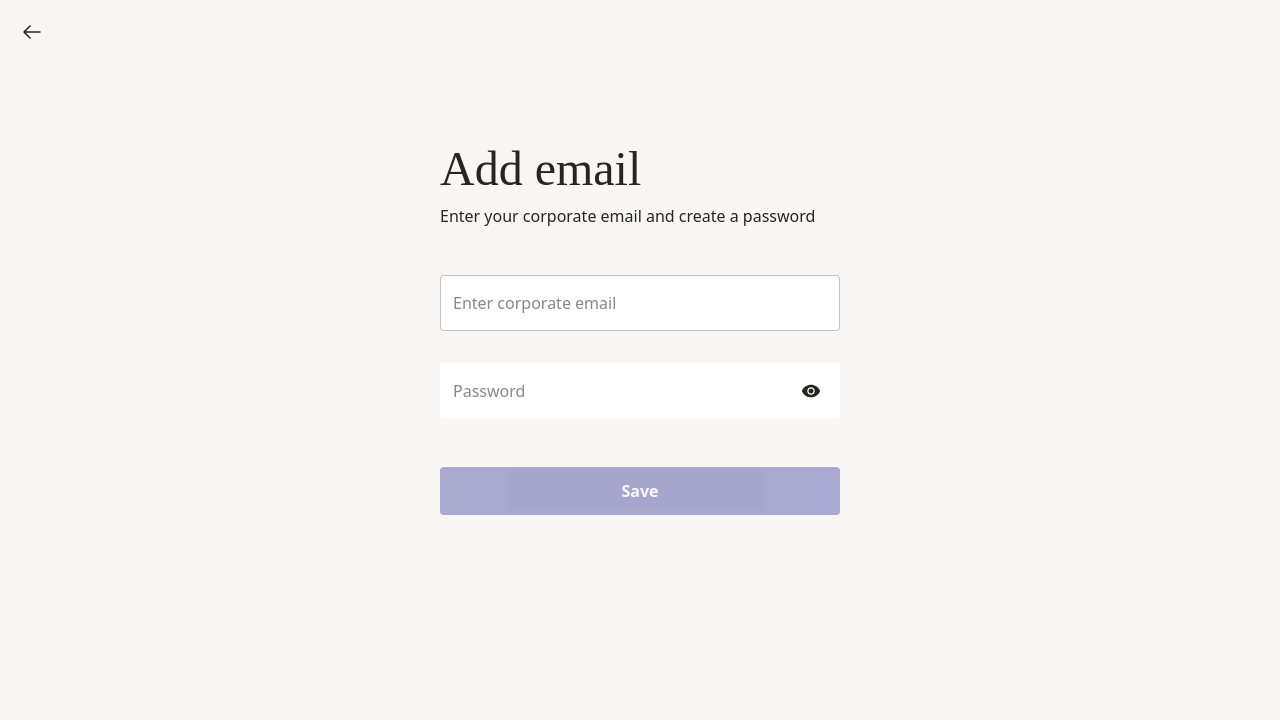
Test: AddEmailModal (#1459) › the malformed-email copy appears on blur
In the field with placeholder "Enter corporate email": [640, 303] box [453, 292, 827, 314], type "nope"
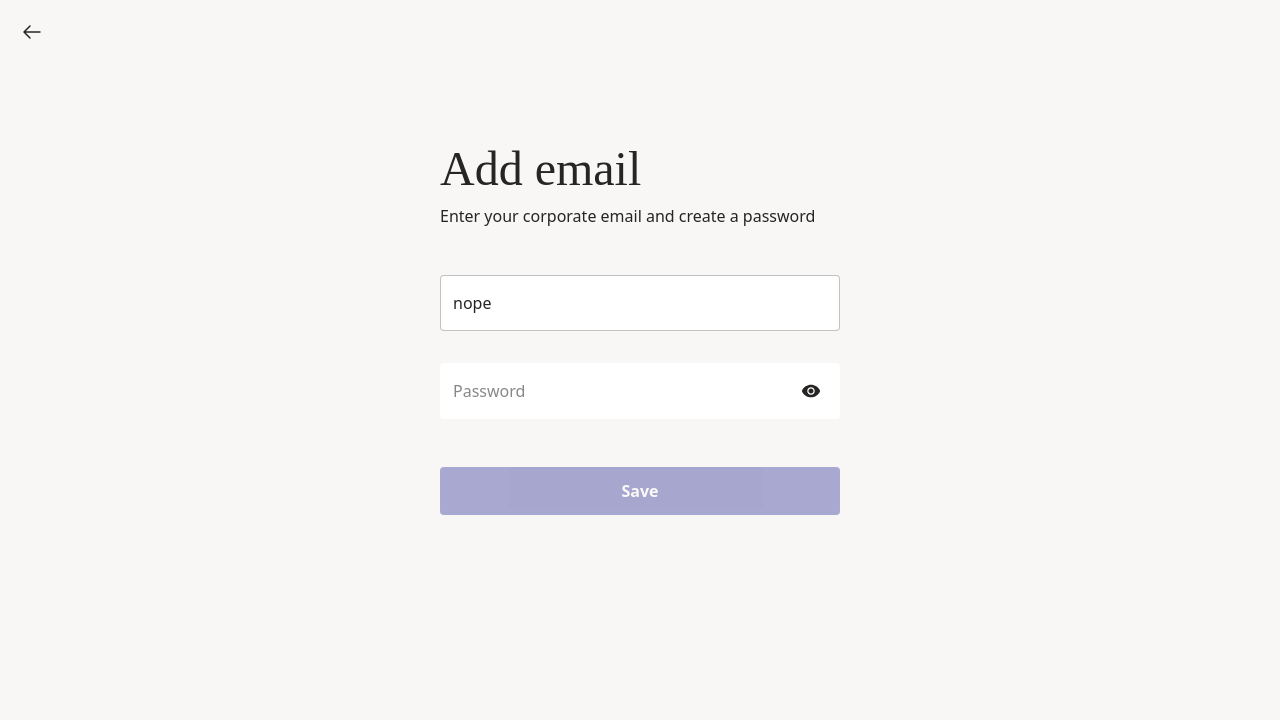
Leave the field with placeholder "Enter corporate email", box [453, 292, 827, 314]
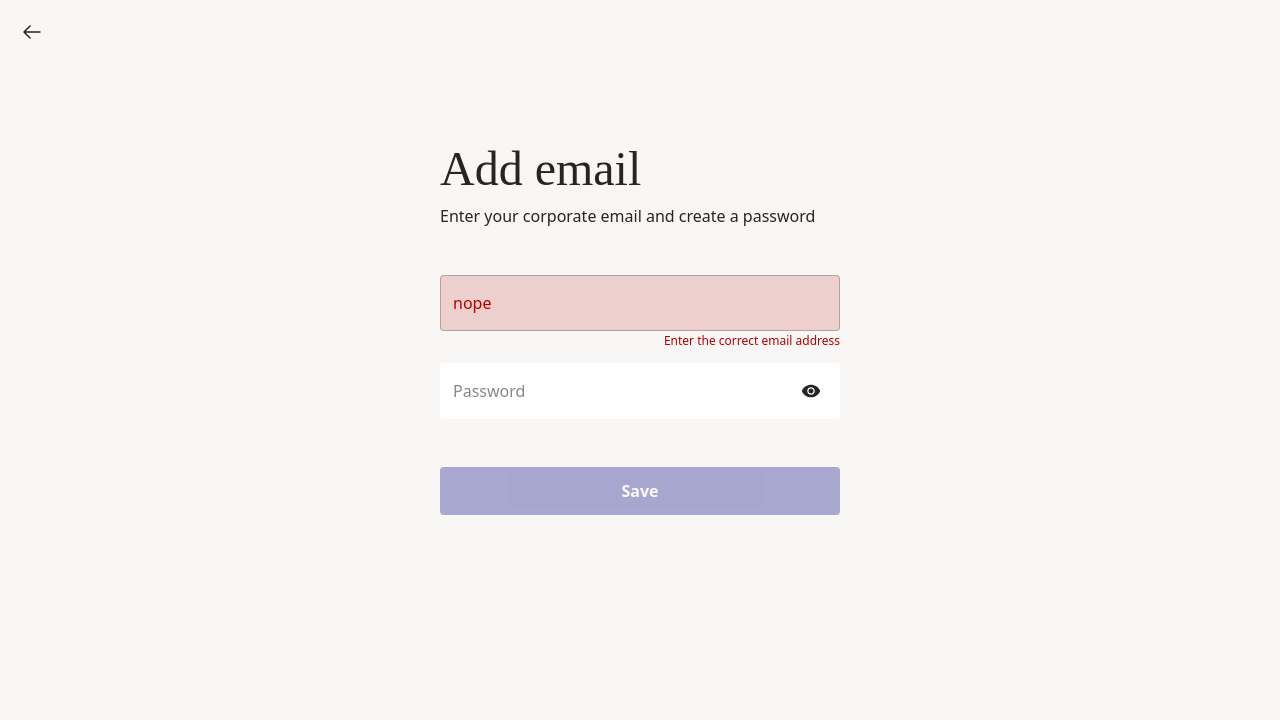
Expected: the text "Enter the correct email address" is shown, [664, 333, 840, 349]
